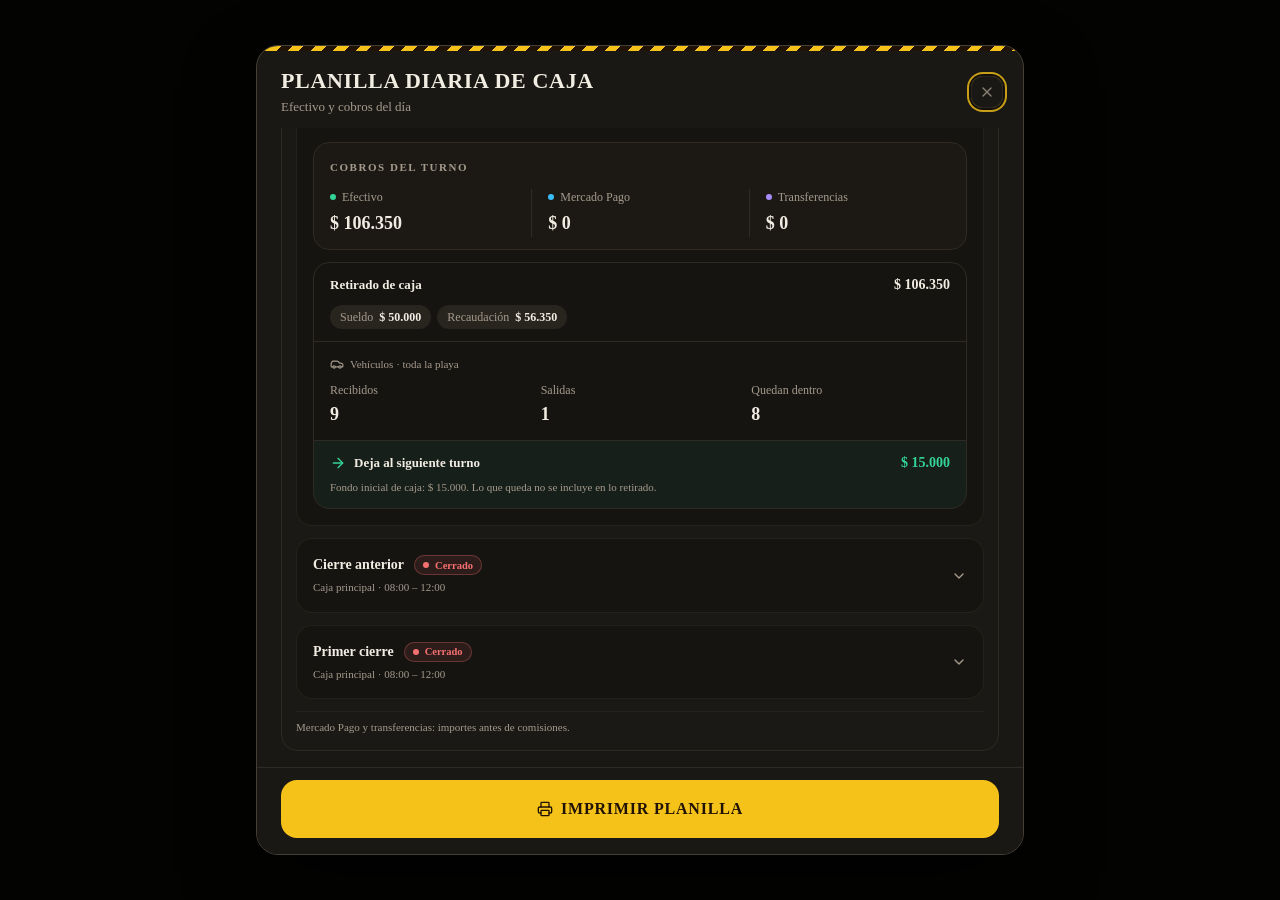
Test: despliega el primer turno y mantiene uno solo abierto al cambiar turno o fecha
This screenshot has width=1280, height=900.
(page scrolled)
Expected: the text "Fondo inicial de caja:" shows "15.000", [428,480,466,492]
Expected: the text "Lo que queda no se incluye en lo retirado" is shown, [466,480,657,492]
Click the button "Cierre anterior Cerrado Caja principal · 08:00 – 12:00".
click(359, 565)  # box [297,539,983,612]
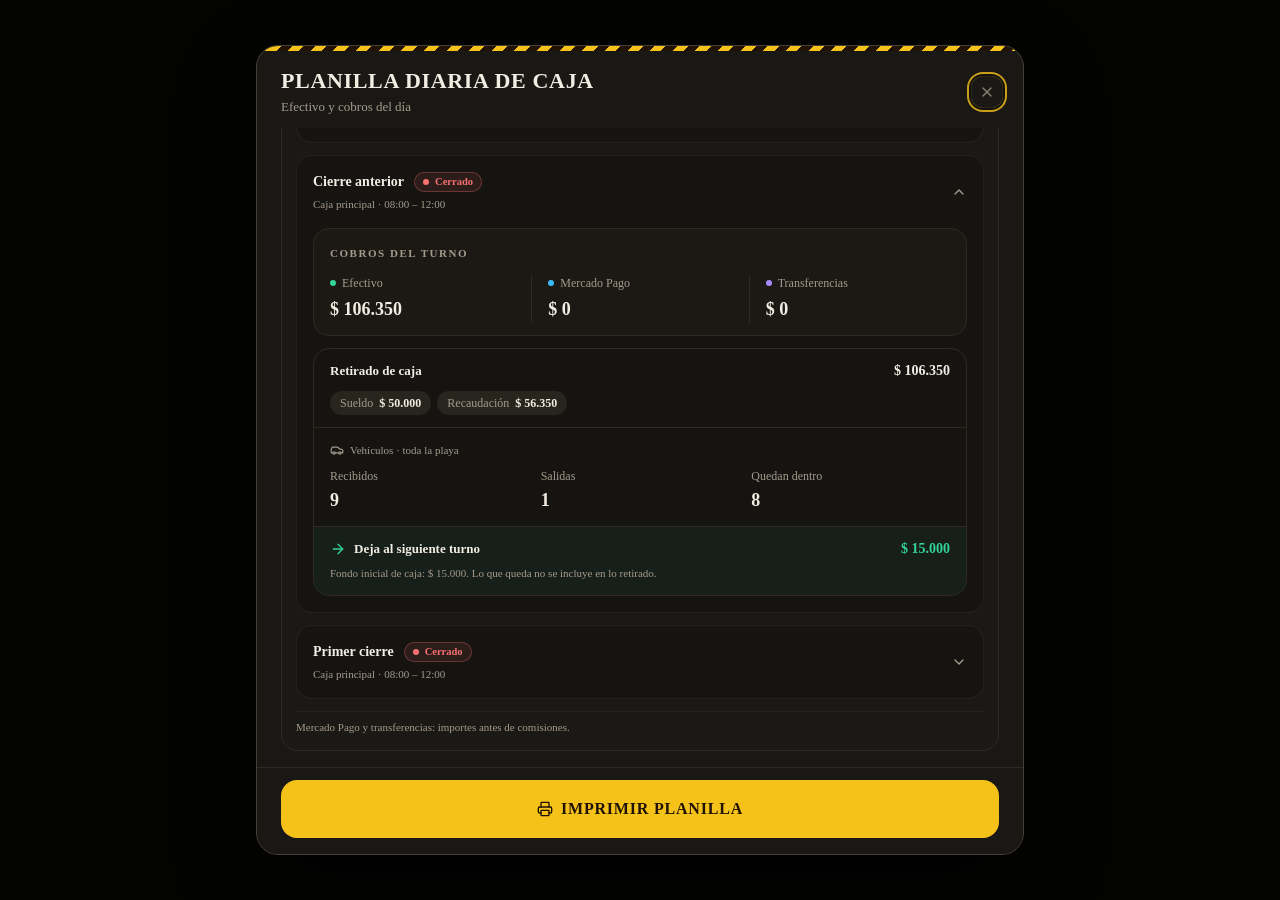
Expected: the button "Cierre anterior Cerrado Caja principal · 08:00 – 12:00" is expanded
Click the button "Cierre anterior Cerrado Caja principal · 08:00 – 12:00".
click(359, 181)  # box [297,156,983,228]
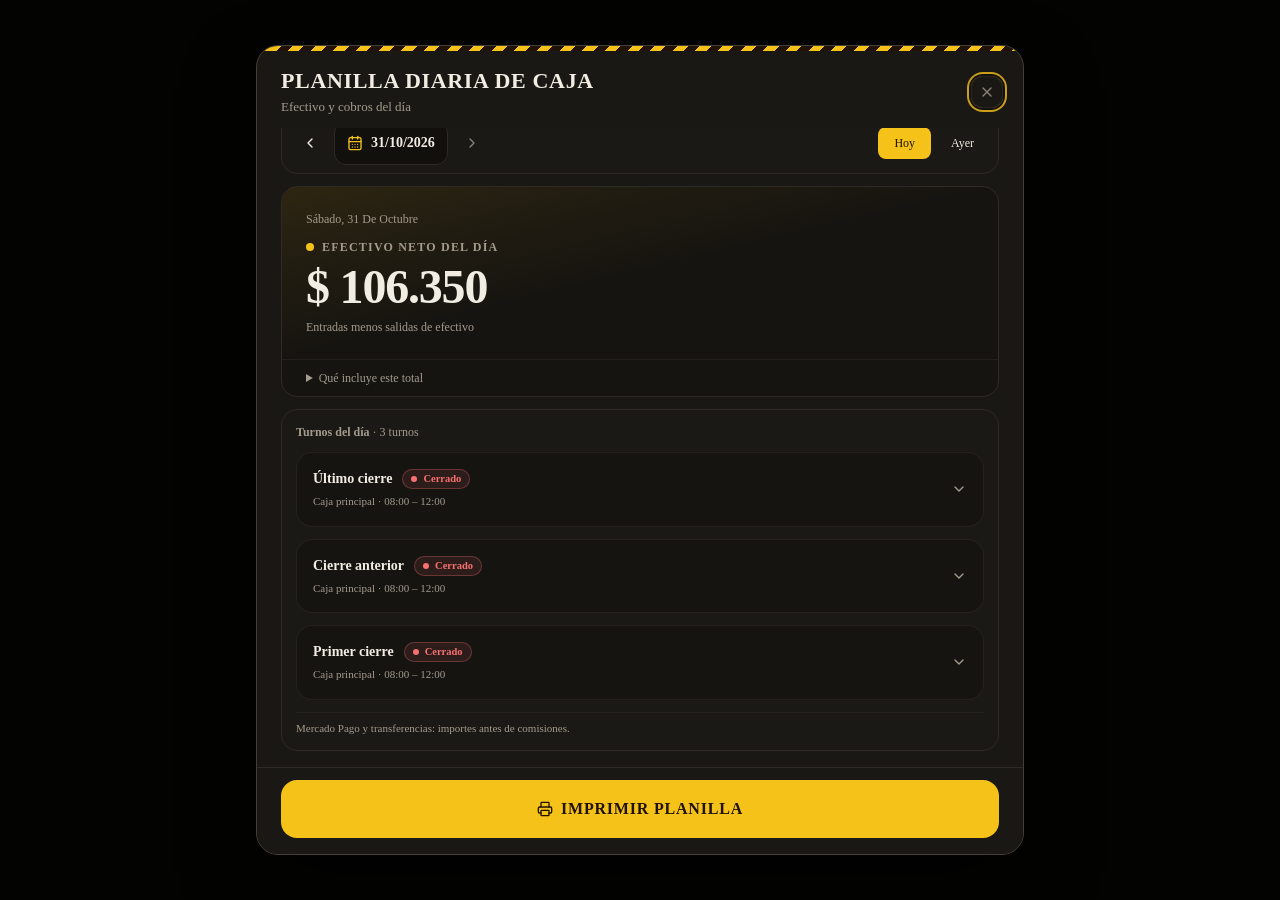
Expected: the button "Cierre anterior Cerrado Caja principal · 08:00 – 12:00" is collapsed, [297,540,983,612]
Click the button named "Día anterior".
click(310, 143)  # box [290,123,330,163]
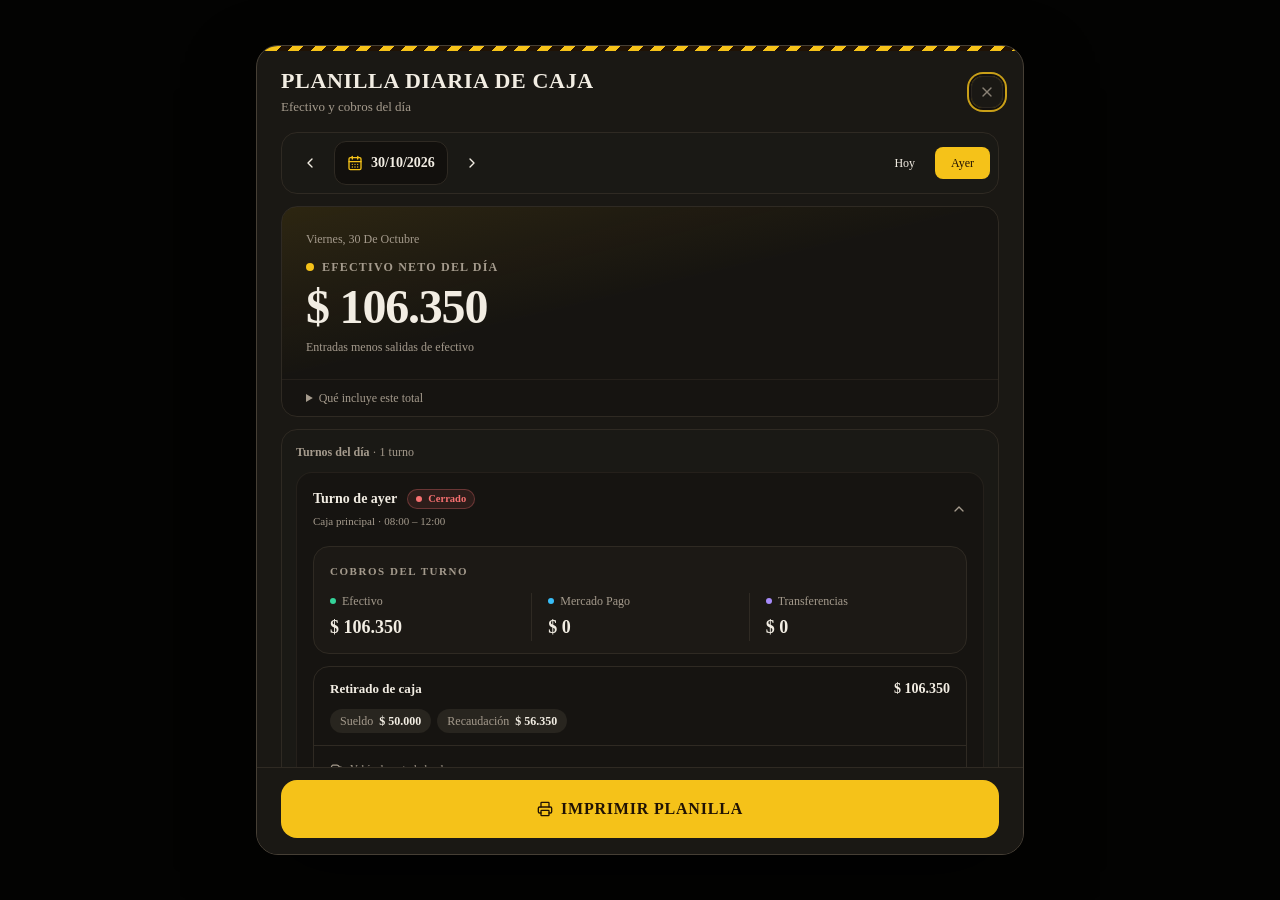
Expected: the button "Último cierre" is gone
